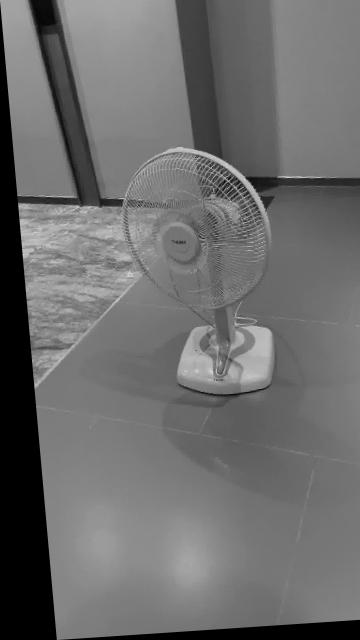Fan: (118, 150, 268, 399)
